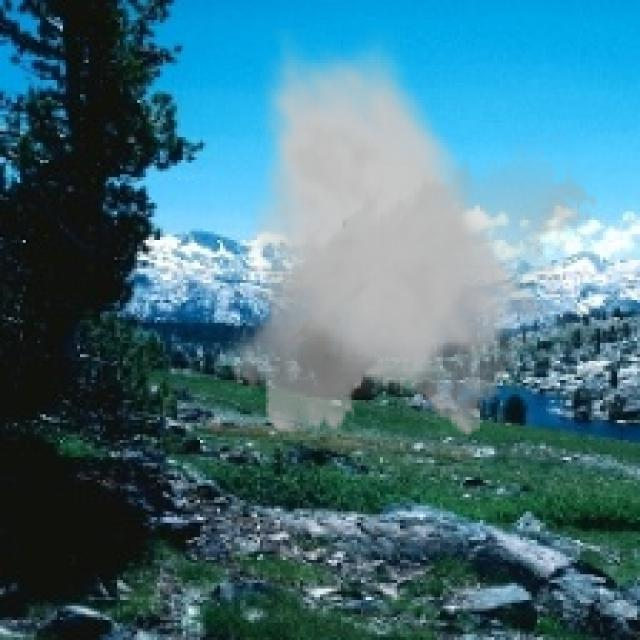smoke: (217, 28, 600, 446)
